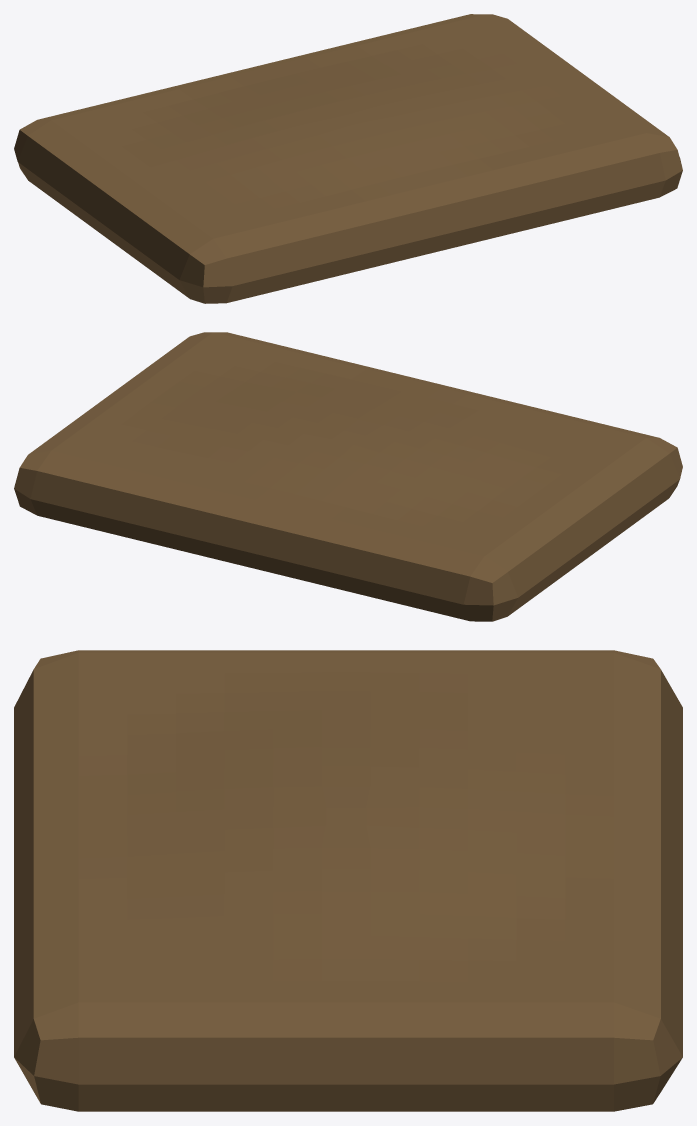
The model's file is CAL-THR-std.glb.
3 views of the same model, one above another, from view 1: azimuth 30°, elevation 25°; view 2: azimuth 150°, elevation 25°; view 3: azimuth 270°, elevation 25° (orthographic). The views are drawn at different scales.
Parts seen in each view (by area): view 1: throw:pbr; view 2: throw:pbr; view 3: throw:pbr.
Boxes of the visible parts, x1,y1,x2,y2 form: throw:pbr: [14, 14, 682, 303]; throw:pbr: [14, 332, 682, 621]; throw:pbr: [14, 650, 682, 1111].
Bounding box in the file's own units: 0.4983 × 0.0729 × 0.3486.
